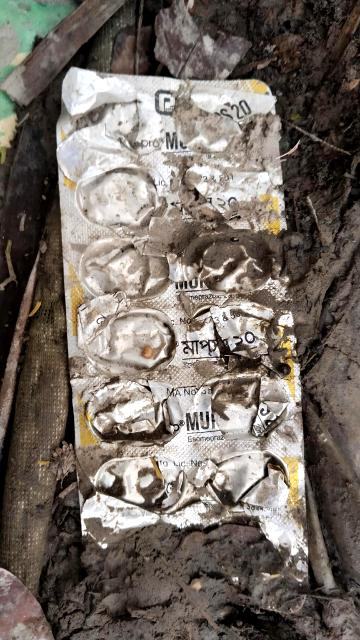medicine: (55, 49, 313, 562)
